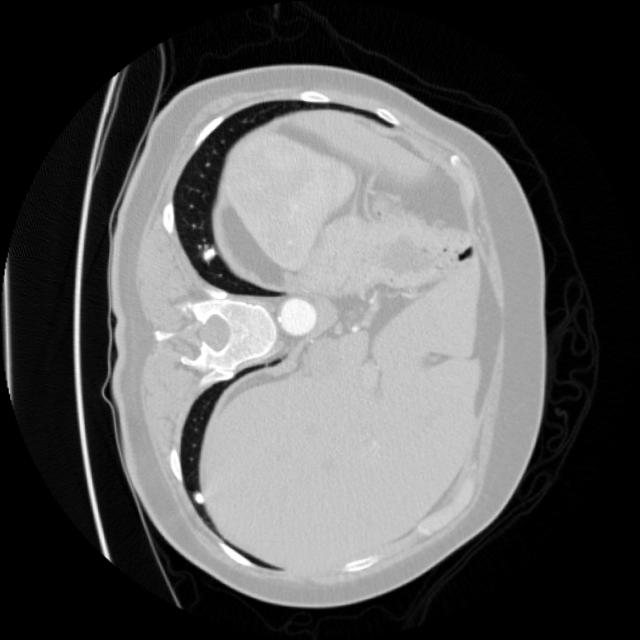nodule: (184, 485, 213, 514)
